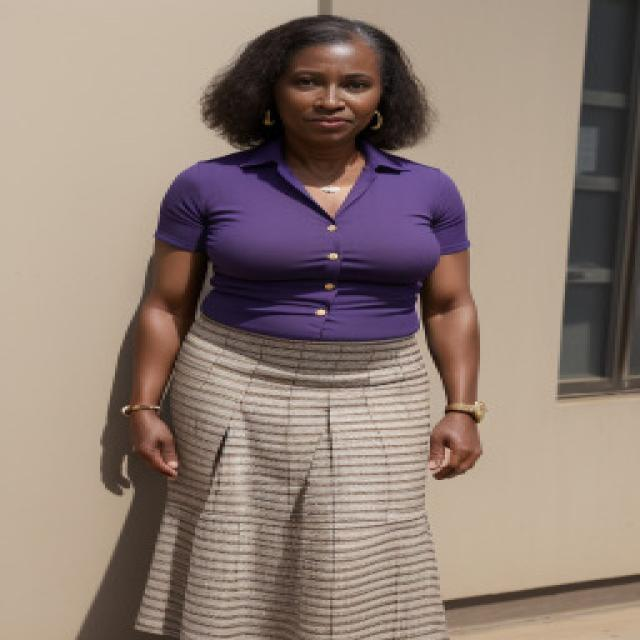Ai human 2: (121, 8, 549, 640)
